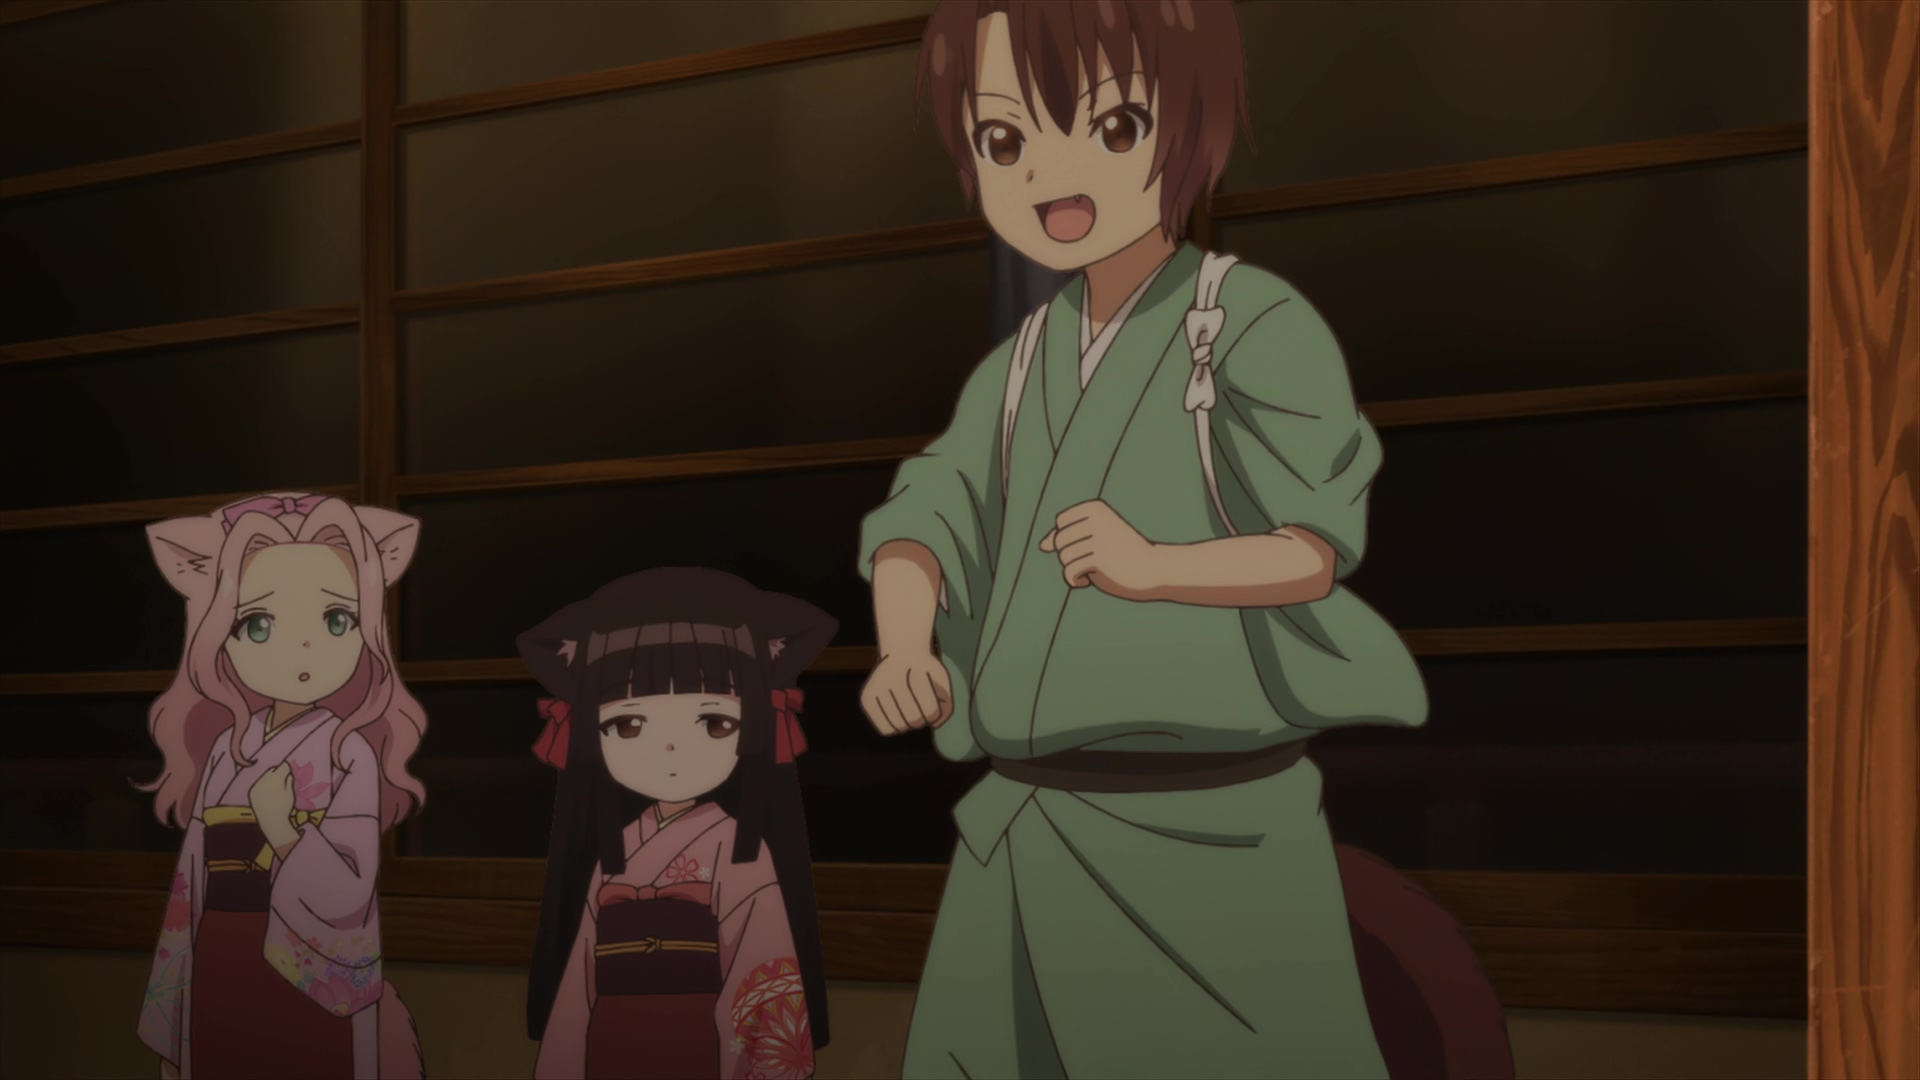枣: (857, 1, 1513, 1080)
樱: (516, 574, 839, 1080)
莲: (138, 487, 429, 1080)
